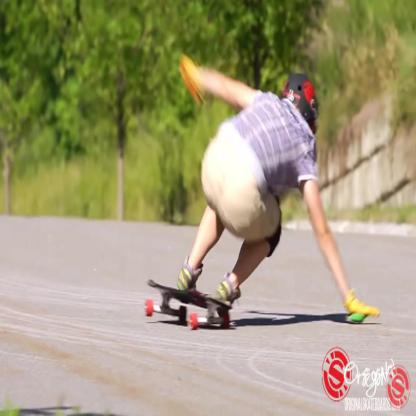Fall_Down: (176, 51, 381, 318)
